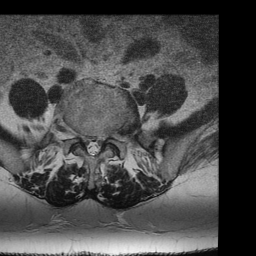CCS_normal: (90, 127, 96, 164)
LFS_severe_stenosis: (102, 124, 111, 146)
LLS_normal: (96, 127, 103, 158)
RFS_stenosis: (76, 124, 83, 147)
RLS_normal: (83, 127, 90, 158)
